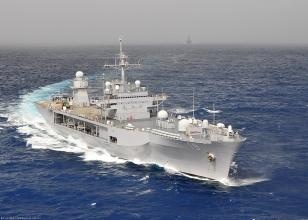warship: (30, 35, 246, 185)
